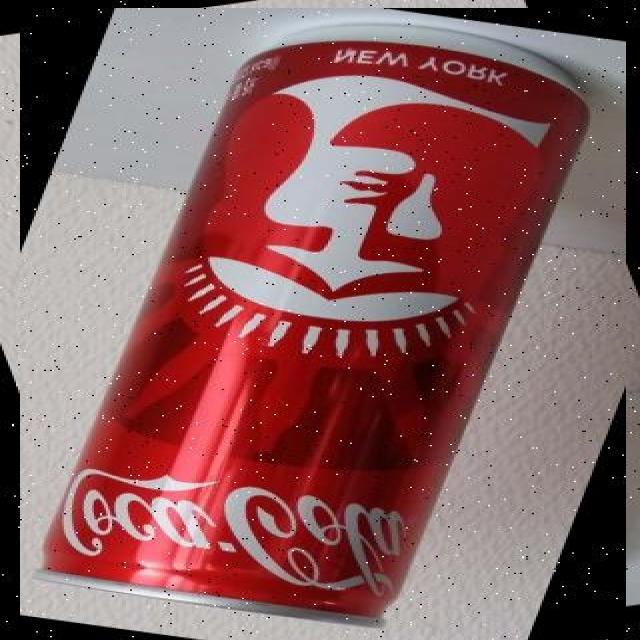coca-cola: (20, 8, 626, 640)
